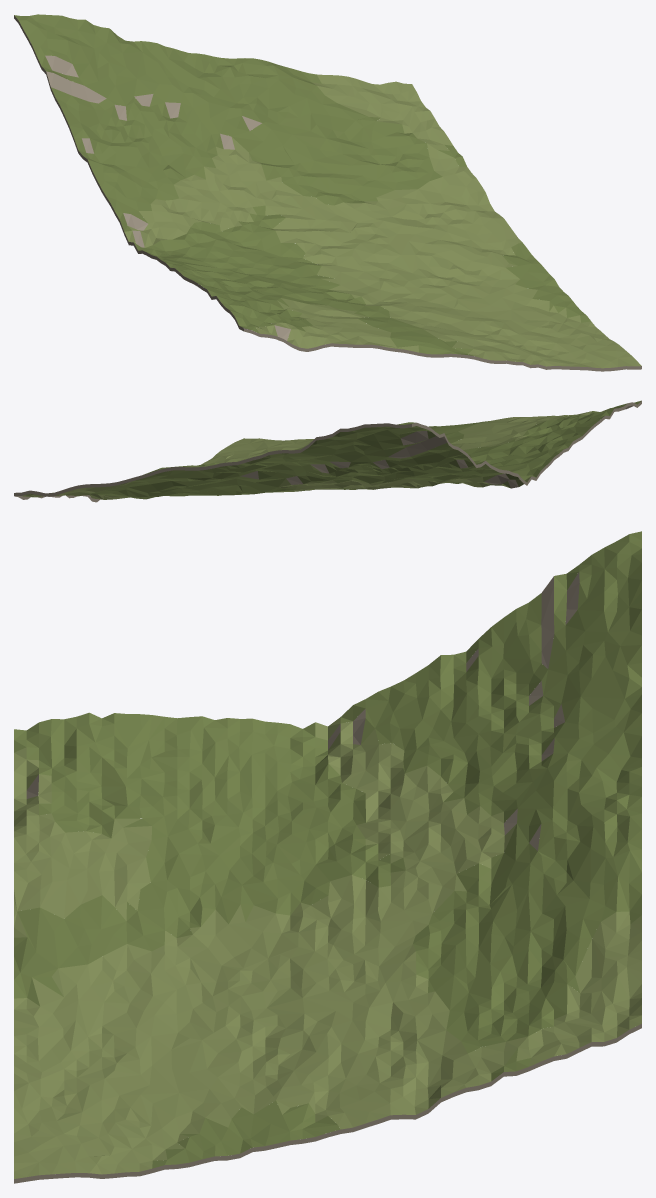
The model's file is parca_+8_-6-uzak.glb.
The picture shows the model from 3 angles, top to bottom: view 1: azimuth 30°, elevation 25°; view 2: azimuth 150°, elevation 25°; view 3: azimuth 270°, elevation 25°; orthographic projection. The views are drawn at different scales.
Visible parts, largest first — view 1: parca_+8_-6_arazi_uzak; view 2: parca_+8_-6_arazi_uzak; view 3: parca_+8_-6_arazi_uzak.
Boxes of the visible parts, left/top/right/bottom form: parca_+8_-6_arazi_uzak: left=14, top=14, right=641, bottom=371; parca_+8_-6_arazi_uzak: left=14, top=400, right=641, bottom=502; parca_+8_-6_arazi_uzak: left=14, top=531, right=641, bottom=1183.
Size of the model in its own units: 1000 by 680 by 1000.
